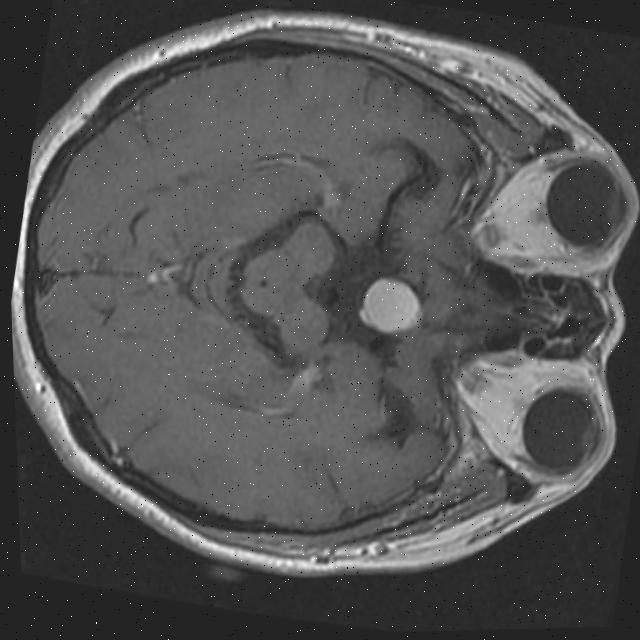Pituitary: (352, 271, 426, 341)
